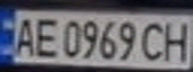0: (60, 16, 81, 60)
6: (96, 17, 121, 61)
9: (115, 17, 142, 62), (78, 16, 103, 60)
A: (9, 14, 39, 57)
C: (139, 19, 169, 63)
E: (30, 14, 60, 58)
H: (160, 17, 193, 63)
